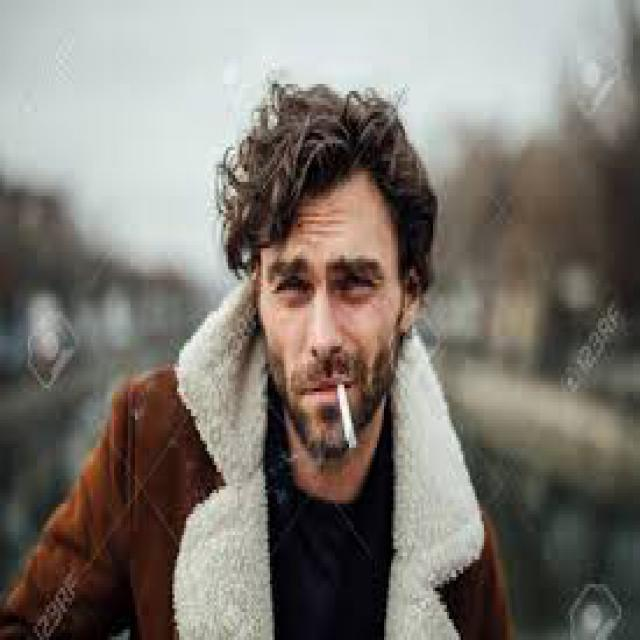smoking: (286, 367, 396, 452)
